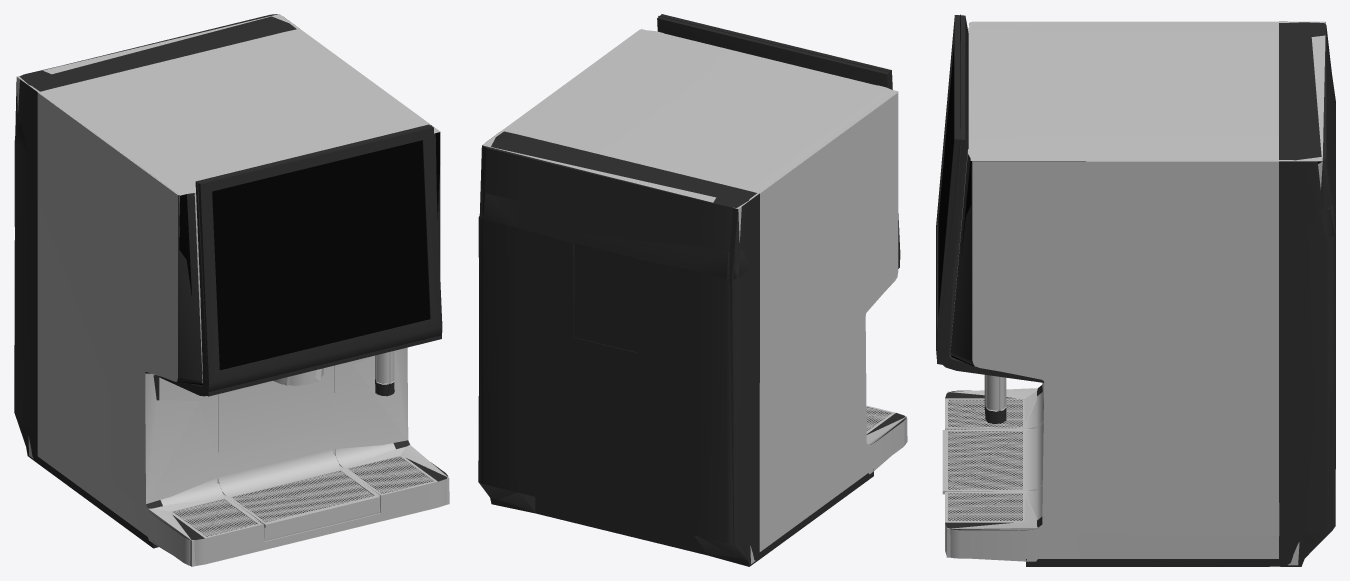
The model's file is coffe_machine.fbx.
The picture shows the model from 3 angles, left to right: view 1: azimuth 30°, elevation 25°; view 2: azimuth 150°, elevation 25°; view 3: azimuth 270°, elevation 25°; orthographic projection. The views are drawn at different scales.
Parts seen in each view (by area): view 1: COFFE_MACHINE_LOD_1, COFFE_MACHINE_LOD_2; view 2: COFFE_MACHINE_LOD_1, COFFE_MACHINE_LOD_2; view 3: COFFE_MACHINE_LOD_1, COFFE_MACHINE_LOD_2.
Part boxes in pixels (box(x1,y1,x2,y2)): COFFE_MACHINE_LOD_1: box(14, 14, 448, 565); COFFE_MACHINE_LOD_2: box(14, 14, 449, 566); COFFE_MACHINE_LOD_1: box(478, 14, 906, 566); COFFE_MACHINE_LOD_2: box(478, 16, 907, 563); COFFE_MACHINE_LOD_1: box(936, 15, 1335, 566); COFFE_MACHINE_LOD_2: box(937, 14, 1334, 565).
Size of the model in its own units: 53.42 by 74.95 by 64.58.
